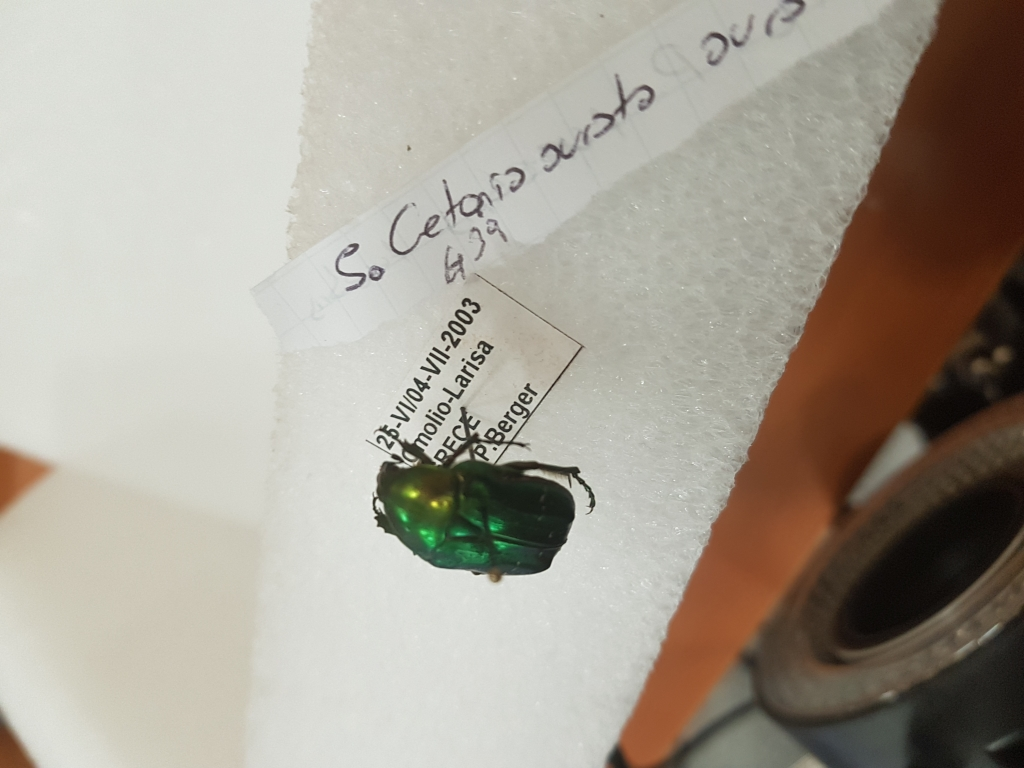Cetonia_aurata: (355, 423, 599, 585)
